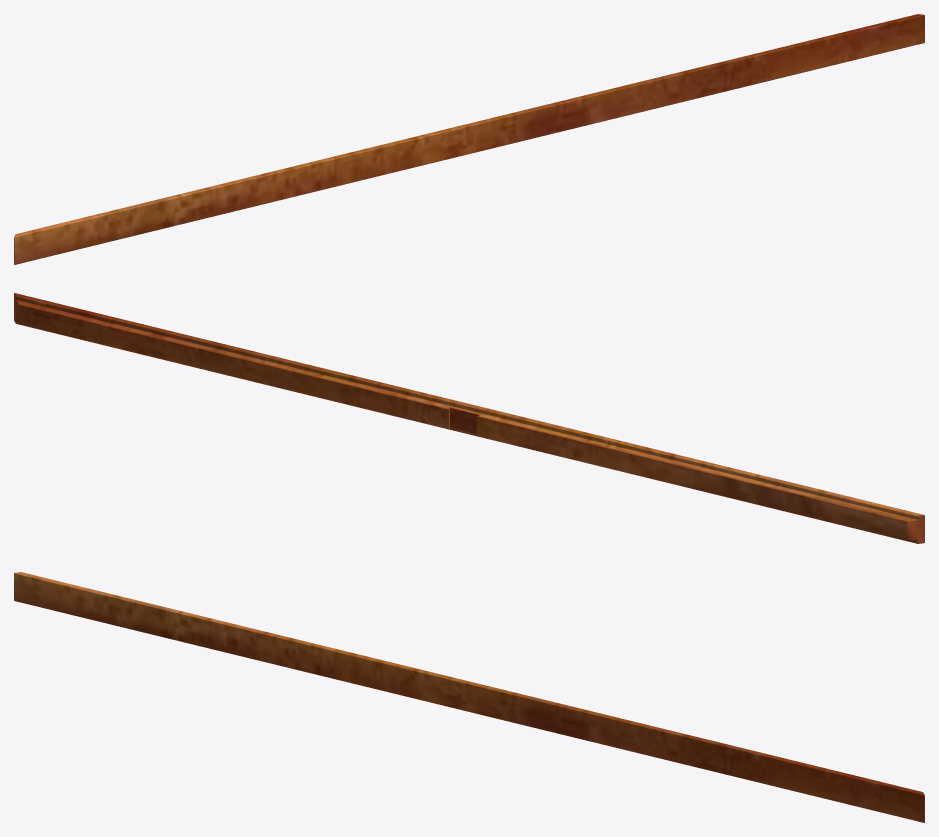
Rendered from baxianzhuo_J_shuyao_04.FBX.
The picture shows the model from 3 angles, top to bottom: view 1: azimuth 30°, elevation 25°; view 2: azimuth 150°, elevation 25°; view 3: azimuth 330°, elevation 25°; orthographic projection.
Parts seen in each view (by area): view 1: baxianzhuo_J_shuyao_04; view 2: baxianzhuo_J_shuyao_04; view 3: baxianzhuo_J_shuyao_04.
Part boxes in pixels (x1,y1,x2,y2): baxianzhuo_J_shuyao_04: (14,14,924,264); baxianzhuo_J_shuyao_04: (14,293,924,543); baxianzhuo_J_shuyao_04: (14,572,924,822).
Bounding box in the file's own units: 93.92 × 2.8 × 1.2.
